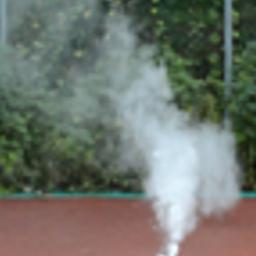smoke: (0, 0, 242, 256)
